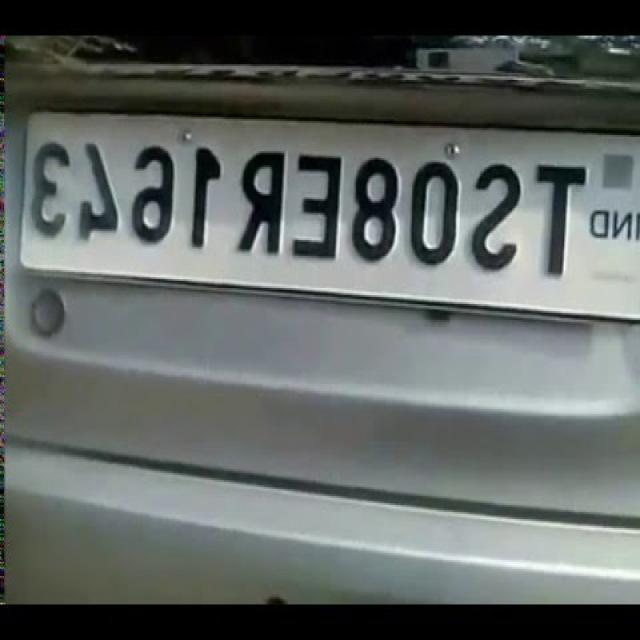number-plate: (14, 129, 601, 276)
